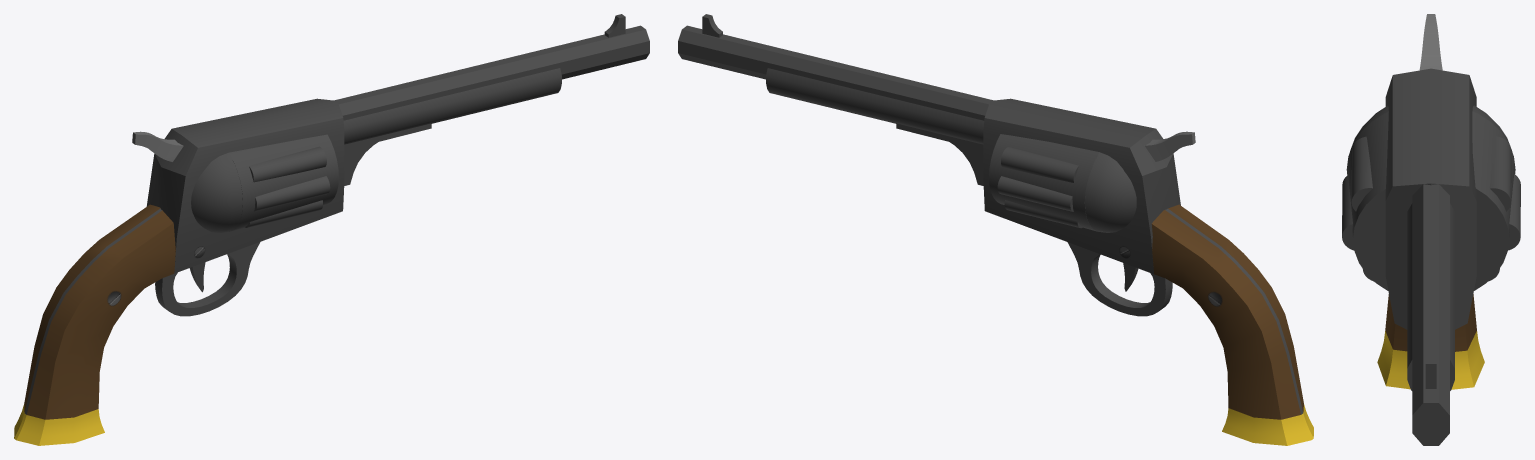
Rendered from Colt.fbx.
3 renders of one model, left to right at view 1: azimuth 30°, elevation 25°; view 2: azimuth 150°, elevation 25°; view 3: azimuth 270°, elevation 25°, orthographic. The views are drawn at different scales.
Visible parts, largest first — view 1: colt; view 2: colt; view 3: colt.
Boxes of the visible parts, x1,y1,x2,y2 form: colt: [14, 14, 649, 445]; colt: [678, 14, 1313, 445]; colt: [1342, 14, 1520, 445].
Size of the model in its own units: 69.93 by 29.47 by 11.83.
Materials: 1 (1 with a texture image).
